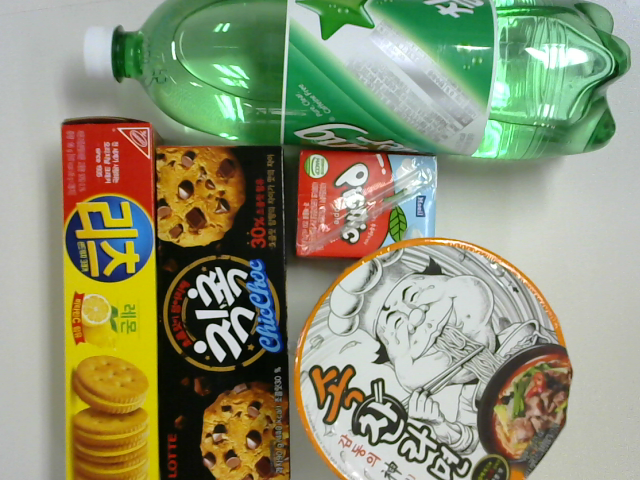Chicchok_Original_2400: (146, 137, 295, 480)
Chilseong_Cider_1.5L: (78, 1, 636, 167)
Hejangchan: (285, 229, 577, 480)
Picnic_Apple: (287, 135, 442, 269)
Ritz_Remon_96g: (55, 110, 165, 480)
